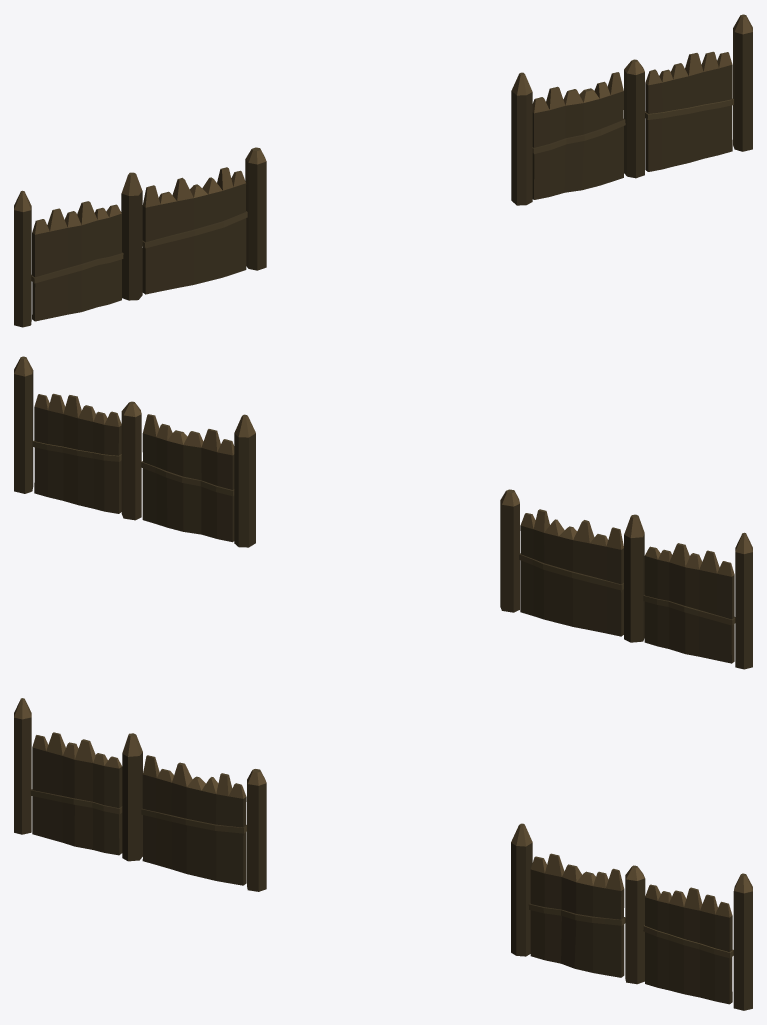
Rendered from PalisadeRiver.fbx.
The picture shows the model from 3 angles, top to bottom: view 1: azimuth 30°, elevation 25°; view 2: azimuth 150°, elevation 25°; view 3: azimuth 330°, elevation 25°; orthographic projection.
Visible parts, largest first — view 1: PalisadeRiver; view 2: PalisadeRiver; view 3: PalisadeRiver.
Part boxes in pixels (x1=…): PalisadeRiver: x1=14, y1=14, x2=752, y2=327; PalisadeRiver: x1=14, y1=356, x2=752, y2=669; PalisadeRiver: x1=14, y1=698, x2=752, y2=1010.
Bounding box in the file's own units: 477 × 81.15 × 12.1.
